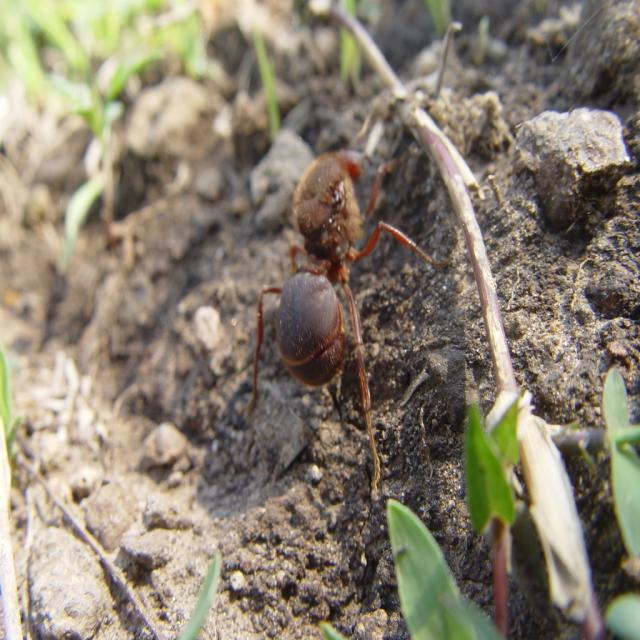Alive-Female-Dealate: (237, 141, 450, 488)
